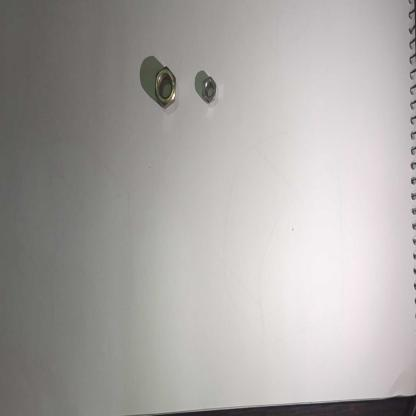NUTS: (152, 61, 178, 115), (199, 74, 220, 107)
